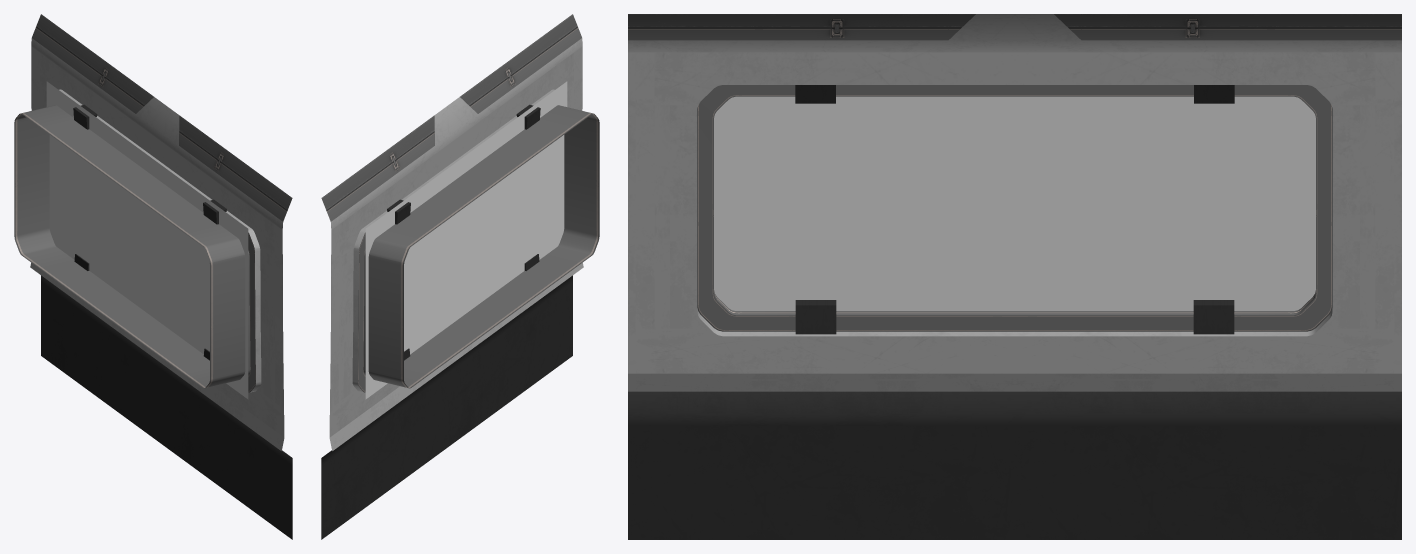
The model's file is WallAstra_Straight_Flat_Window.gltf.
3 renders of one model, left to right at view 1: azimuth 30°, elevation 25°; view 2: azimuth 150°, elevation 25°; view 3: azimuth 270°, elevation 25°, orthographic. The views are drawn at different scales.
Parts seen in each view (by area): view 1: WallAstra_Straight_Flat_Window; view 2: WallAstra_Straight_Flat_Window; view 3: WallAstra_Straight_Flat_Window.
Boxes of the visible parts, box(x1,y1,x2,y2) form: WallAstra_Straight_Flat_Window: box(14, 14, 292, 539); WallAstra_Straight_Flat_Window: box(321, 14, 599, 539); WallAstra_Straight_Flat_Window: box(628, 14, 1401, 539).
Size of the model in its own units: 0.5015 by 3 by 4.
5 materials, 4 textured.
